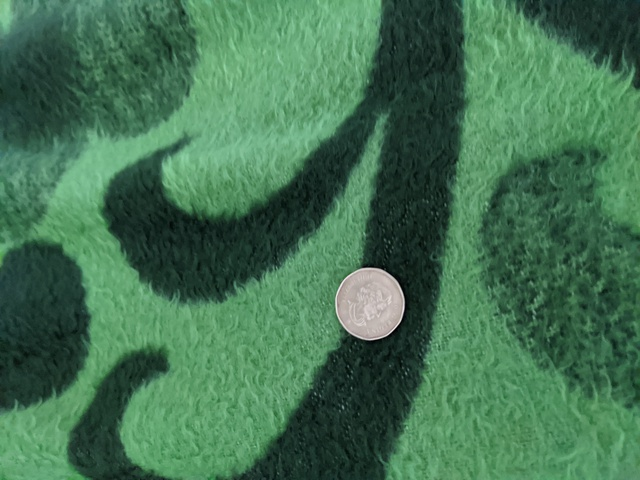loonie: (321, 262, 422, 339)
